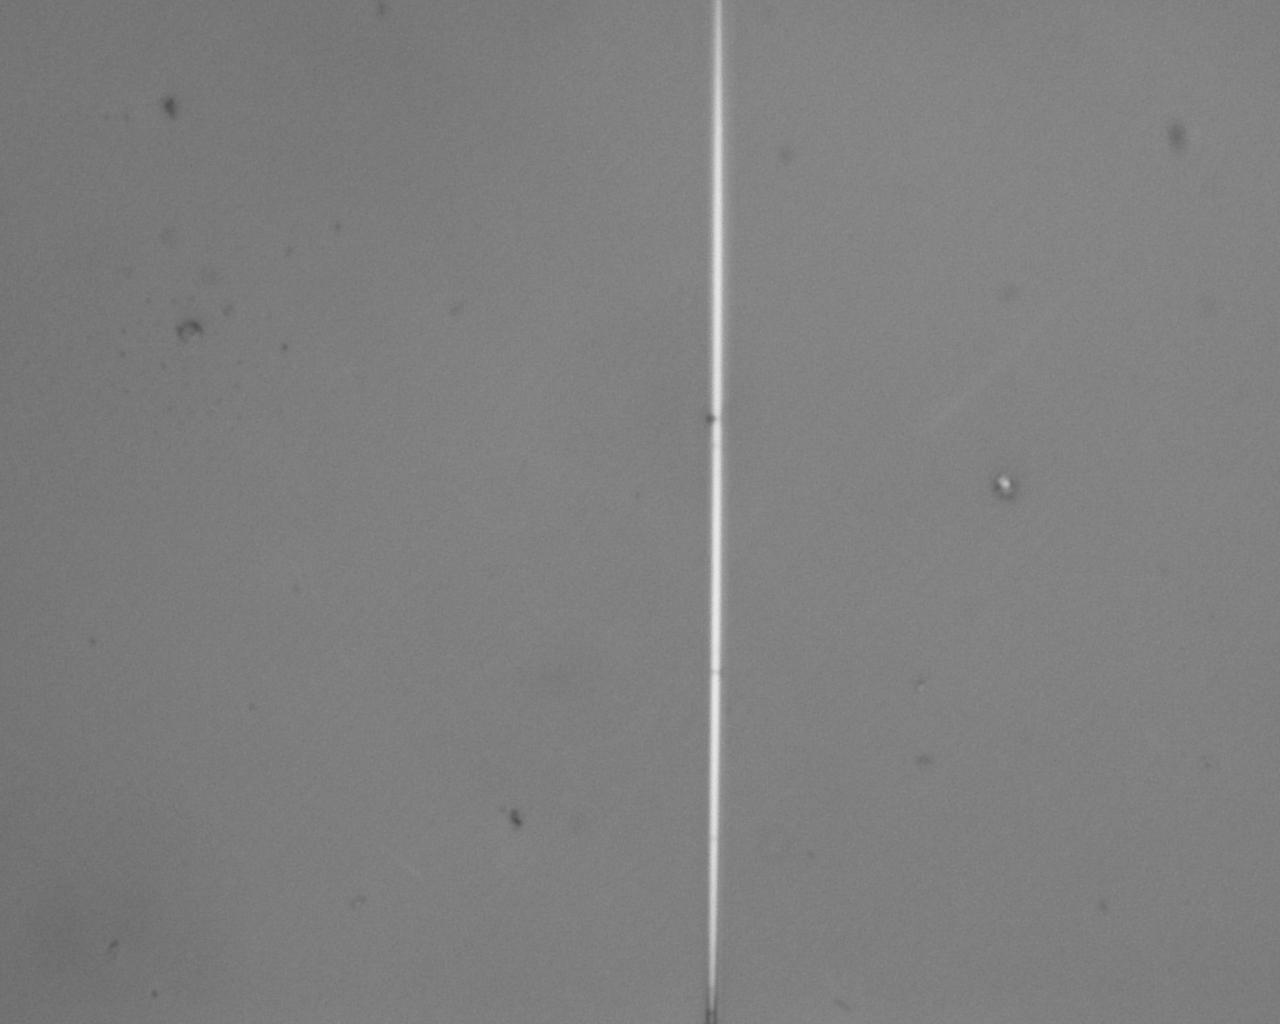fiber: (499, 389, 1280, 737), (449, 389, 499, 1024)
